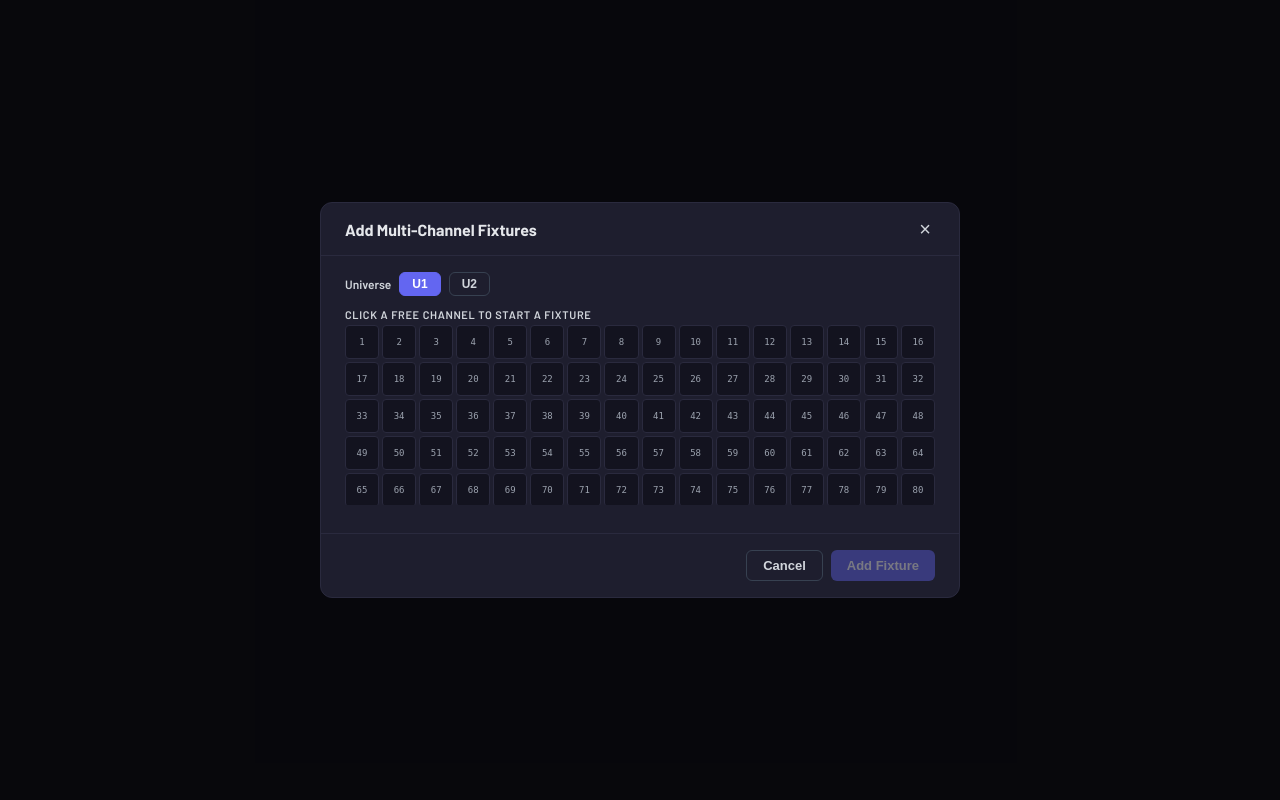
AddMultiChannelFixturesModal › choosing a preset fills the channel rows for that draft
Click the text titled "Channel 5".
click(510, 342)  # box [493, 325, 527, 359]
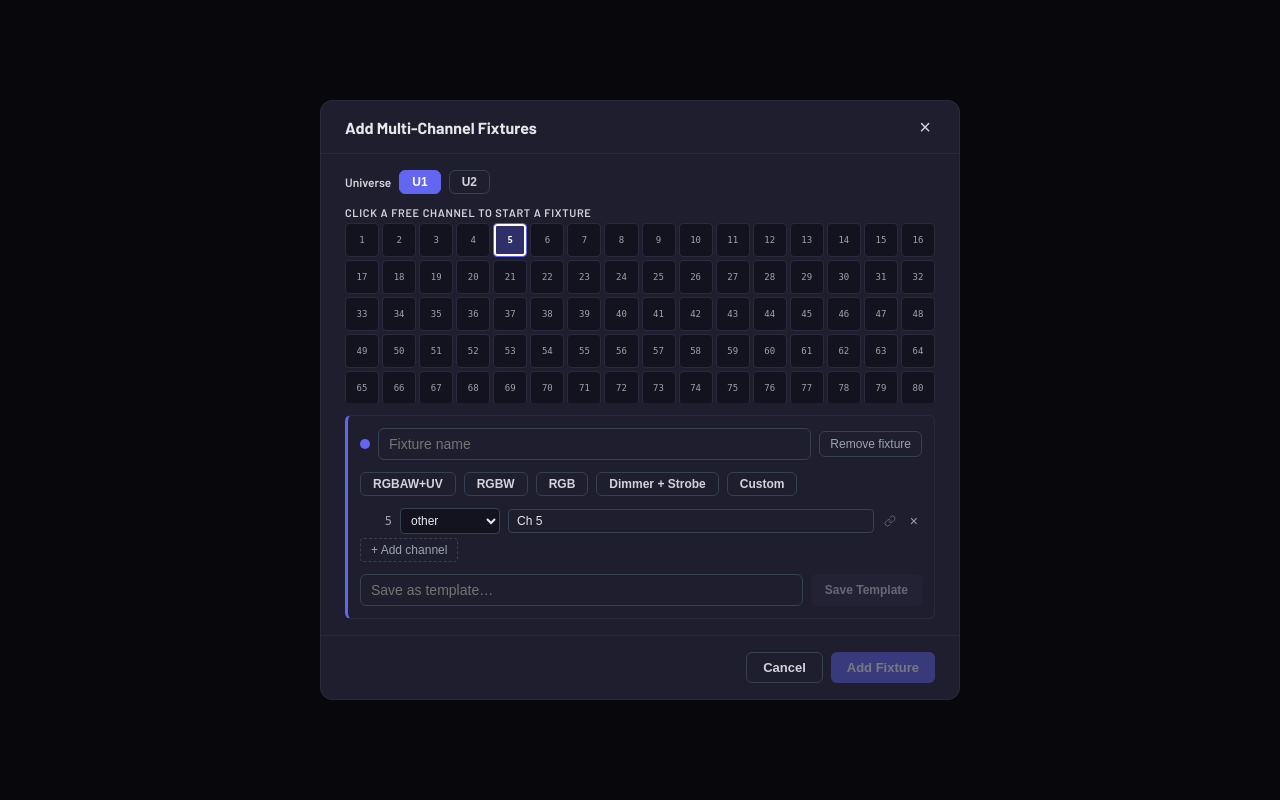
Click the button "RGB".
click(562, 484)  # box [536, 472, 588, 496]
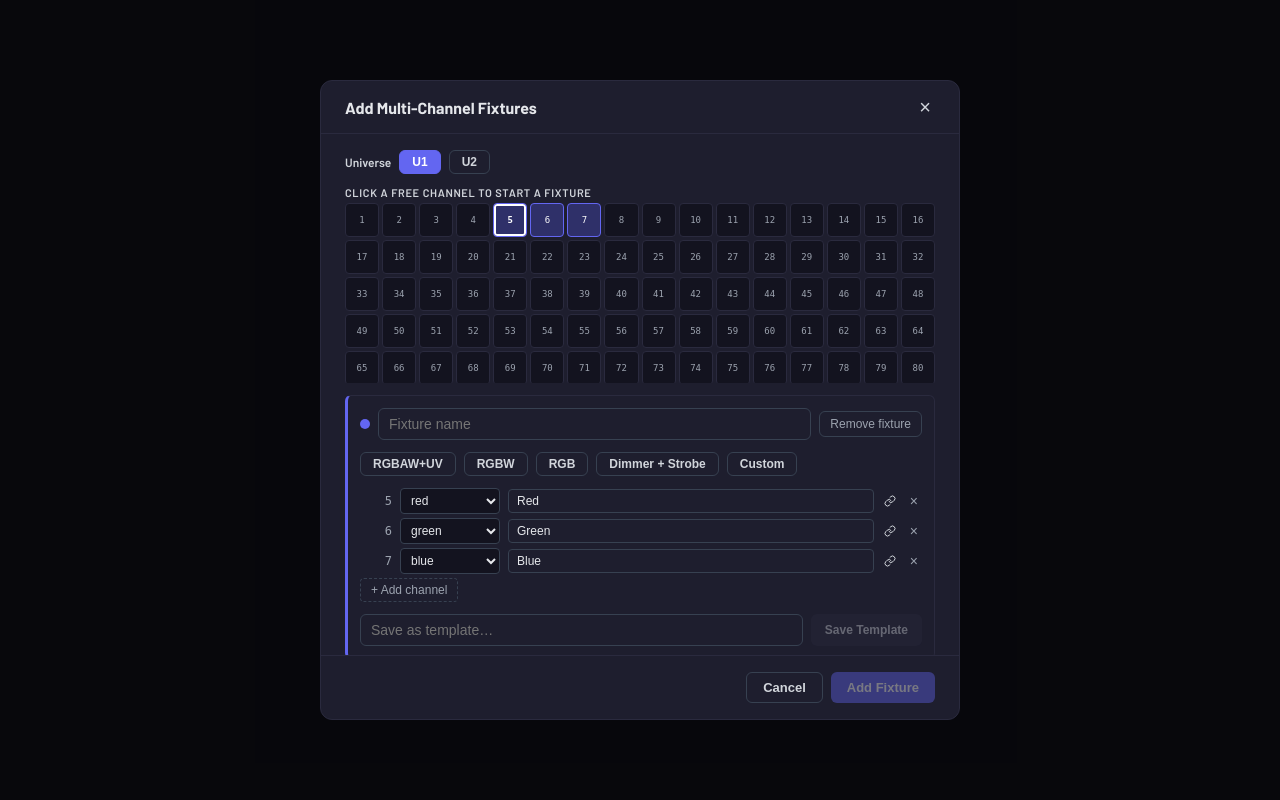
Expected: the 1st field showing "Red" is shown, [508, 489, 874, 513]
Expected: the 2nd field showing "Green" is shown, [508, 519, 874, 543]
Expected: the 3rd field showing "Blue" is shown, [508, 549, 874, 573]
